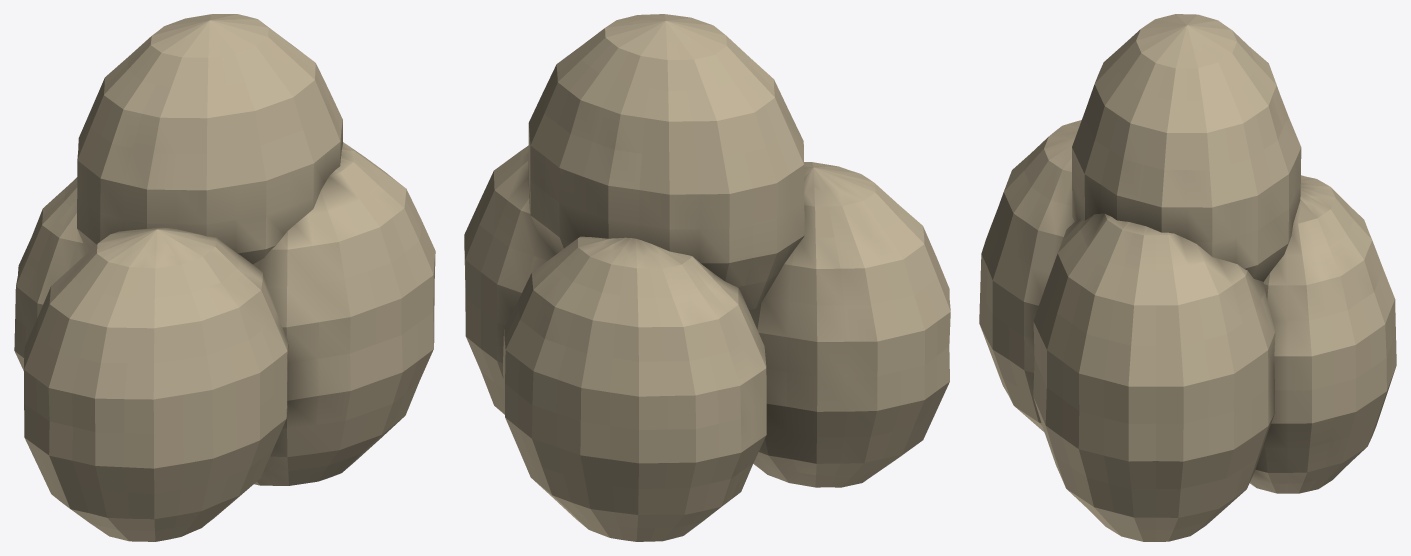
The model's file is p_sacks.glb.
3 views of the same model, side by side, from view 1: azimuth 30°, elevation 25°; view 2: azimuth 150°, elevation 25°; view 3: azimuth 270°, elevation 25° (orthographic). The views are drawn at different scales.
Visible parts, largest first — view 1: sacks; view 2: sacks; view 3: sacks.
Boxes of the visible parts, box(x1,y1,x2,y2) form: sacks: box(14, 14, 435, 541); sacks: box(464, 14, 950, 541); sacks: box(979, 14, 1396, 541).
Size of the model in its own units: 1.27 by 1.35 by 1.08.
